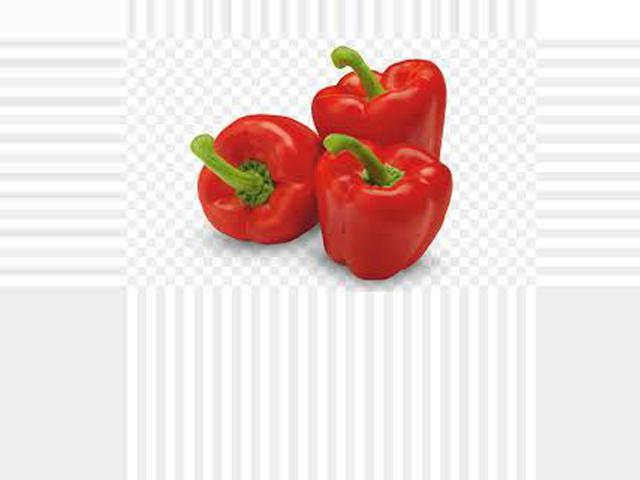bell_pepper: (181, 96, 335, 255)
